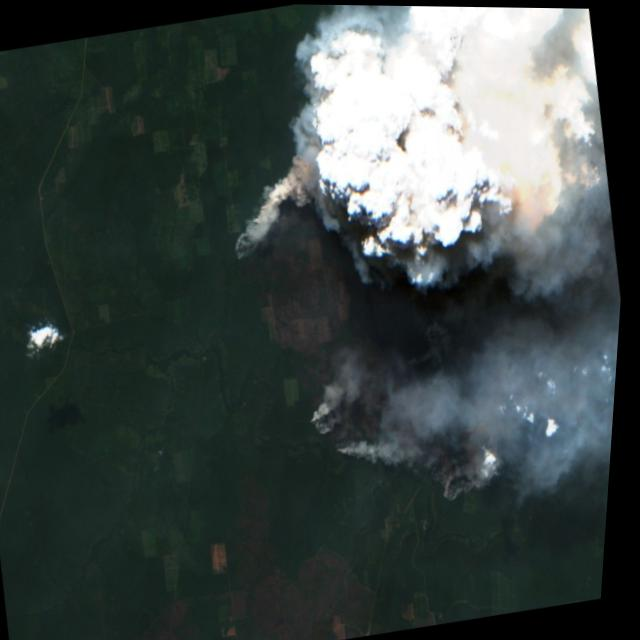fire: (202, 123, 532, 538)
